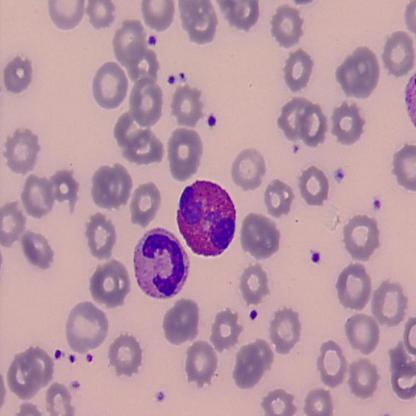Eosinophil: (174, 177, 238, 257)
